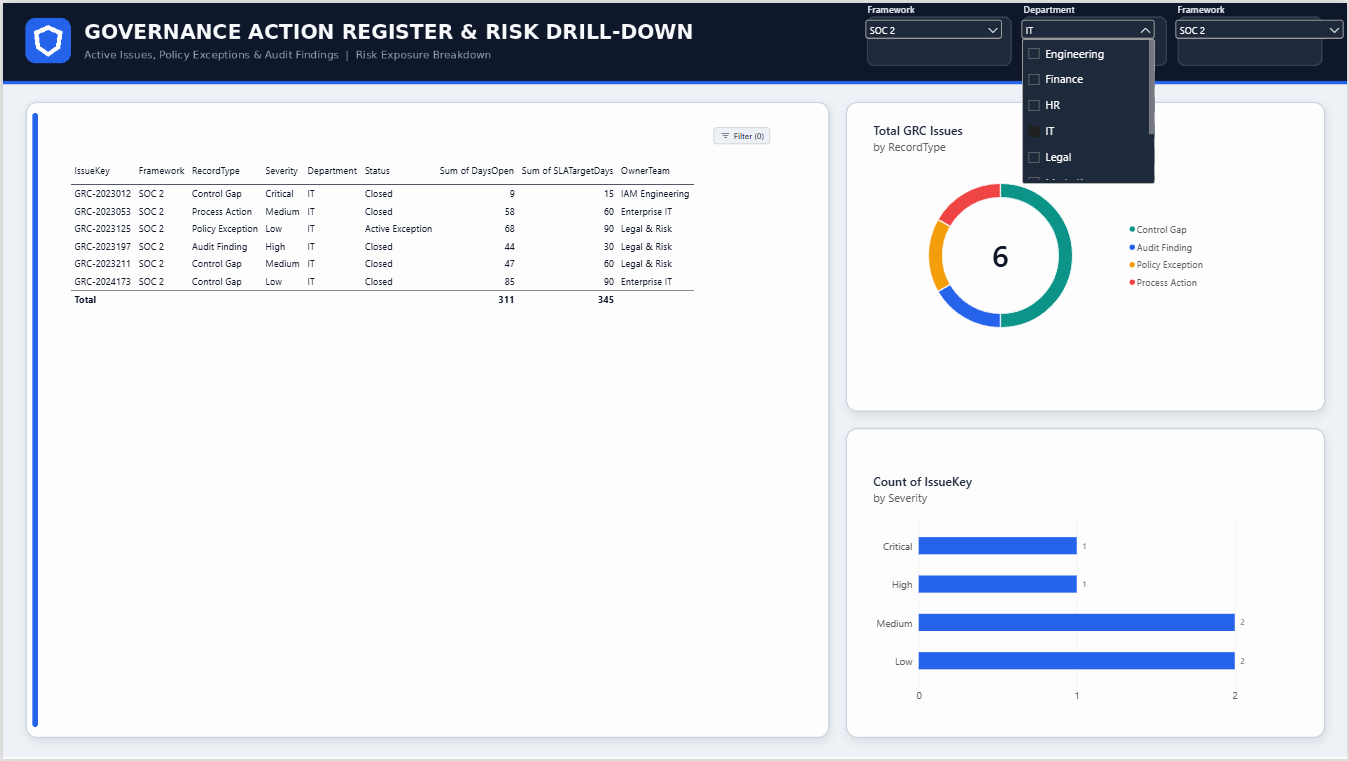

The dashboard page shown, as its layout file describes it:
{"tool":"powerbi","page":{"name":"Action Register","canvas":[1920,1080],"ordinal":1},"visuals":[{"type":"slicer","fields":{"Values":["fact_grc_issues_exceptions.Framework"]},"box":[1670,0,250,105],"z":0},{"type":"slicer","fields":{"Values":["dim_department.Department"]},"box":[1450,0,200,105],"z":1000},{"type":"slicer","fields":{"Values":["fact_grc_issues_exceptions.Framework"]},"box":[1227.5,0,205,105],"z":2000},{"type":"tableEx","fields":{"Values":["fact_grc_issues_exceptions.IssueKey","fact_grc_issues_exceptions.Framework","fact_grc_issues_exceptions.RecordType","dim_severity.Severity","dim_department.Department","fact_grc_issues_exceptions.Status","Sum(fact_grc_issues_exceptions.DaysOpen)","Sum(fact_grc_issues_exceptions.SLATargetDays)","fact_grc_issues_exceptions.OwnerTeam"]},"box":[80,155.7,1040,312.9],"z":3000},{"type":"donutChart","fields":{"Category":["fact_grc_issues_exceptions.RecordType"],"Y":["_Measures.Total GRC Issues"]},"box":[1227.5,155,512.5,350],"z":4000},{"type":"barChart","fields":{"Category":["dim_severity.Severity"],"Y":["CountNonNull(fact_grc_issues_exceptions.IssueKey)"]},"box":[1227.5,657.5,567.5,362.5],"z":5000}]}

Visuals, with their boxes in screenshot pixels (x1, y1, x2, y2), scaled from the page's 1920x1080 canvas onto the 1349x761 screenshot:
slicer - fact_grc_issues_exceptions.Framework: locate(1173, 0, 1348, 74)
slicer - dim_department.Department: locate(1019, 0, 1159, 74)
slicer - fact_grc_issues_exceptions.Framework: locate(862, 0, 1006, 74)
tableEx - fact_grc_issues_exceptions.IssueKey x fact_grc_issues_exceptions.Framework: locate(56, 110, 787, 330)
donutChart - fact_grc_issues_exceptions.RecordType x _Measures.Total GRC Issues: locate(862, 109, 1223, 356)
barChart - dim_severity.Severity x CountNonNull(fact_grc_issues_exceptions.IssueKey): locate(862, 463, 1261, 719)
